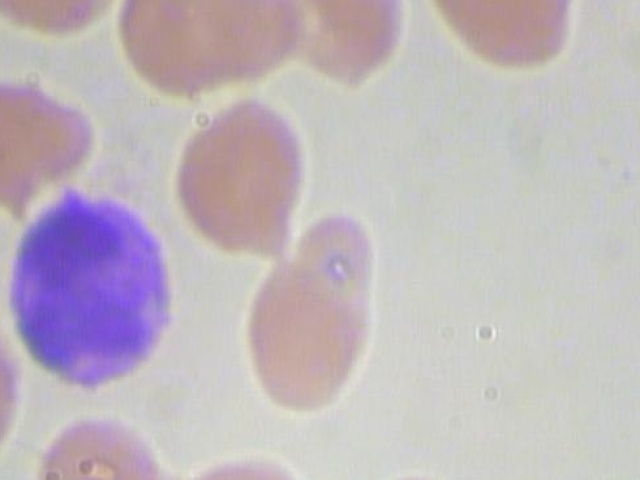RBC: (160, 97, 325, 259), (217, 255, 382, 417), (108, 0, 296, 105), (262, 0, 418, 97), (423, 0, 578, 71), (31, 405, 176, 480), (0, 0, 132, 44)
WBC: (0, 176, 183, 391)
